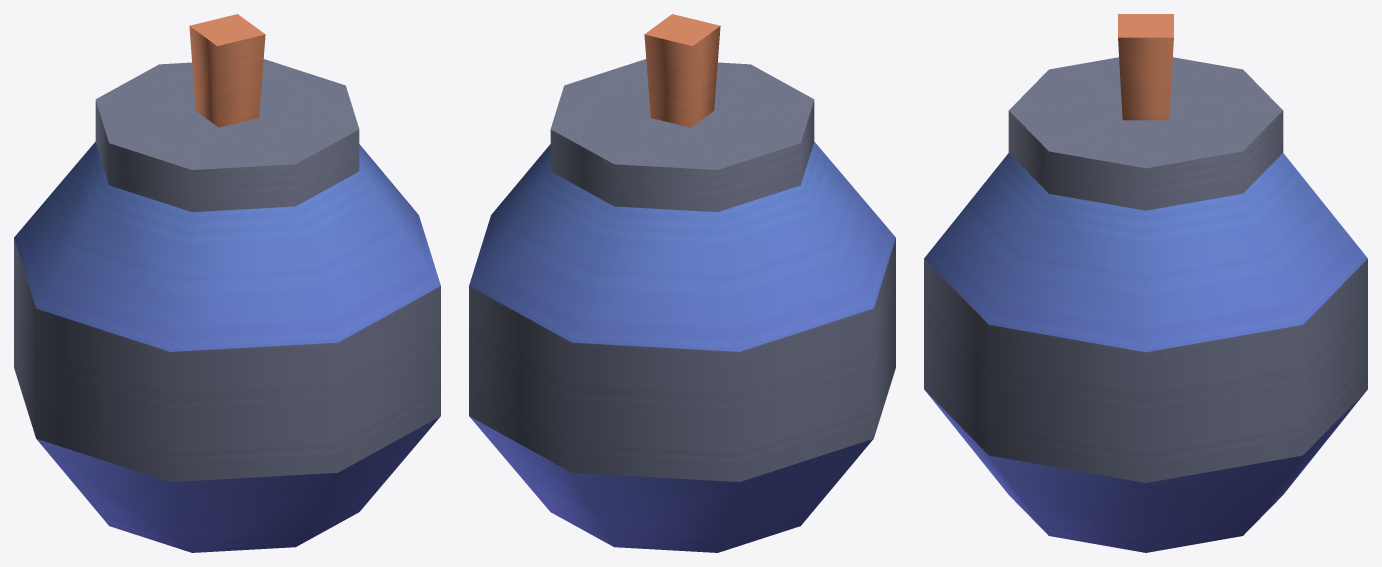
The model's file is bomb.glb.
The picture shows the model from 3 angles, left to right: view 1: azimuth 30°, elevation 25°; view 2: azimuth 150°, elevation 25°; view 3: azimuth 270°, elevation 25°; orthographic projection.
Parts seen in each view (by area): view 1: bomb; view 2: bomb; view 3: bomb.
Part boxes in pixels (x1,y1,x2,y2): bomb: [14, 14, 440, 552]; bomb: [469, 14, 895, 552]; bomb: [924, 14, 1367, 552].
Bounding box in the file's own units: 0.3424 × 0.4336 × 0.3424.
1 material, 1 textured.
